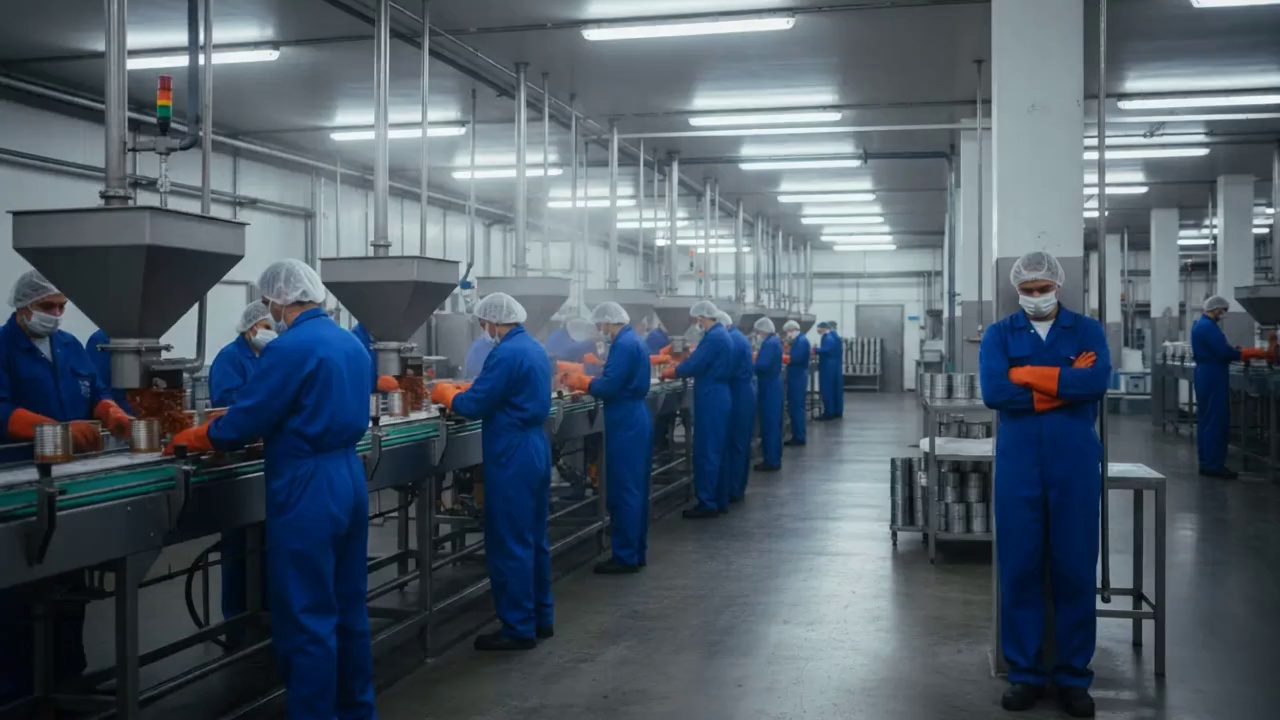employé: (982, 243, 1117, 710), (250, 261, 359, 698), (440, 292, 545, 632), (586, 276, 649, 568), (0, 276, 85, 413), (1187, 287, 1232, 498), (689, 303, 727, 513), (716, 293, 748, 527), (225, 295, 277, 398), (755, 312, 783, 480), (88, 320, 136, 406), (784, 314, 810, 454), (813, 311, 838, 429), (555, 309, 593, 379), (829, 310, 846, 428), (641, 313, 678, 351)
employé actif: (253, 237, 347, 669), (453, 274, 531, 596), (592, 272, 642, 587), (1185, 264, 1231, 520), (20, 264, 73, 402), (752, 300, 785, 495), (237, 274, 273, 440), (718, 274, 740, 541), (688, 277, 710, 517), (781, 291, 807, 473), (824, 294, 848, 433), (808, 299, 831, 415), (558, 300, 588, 382), (653, 297, 670, 362)
employé inactif: (990, 257, 1107, 642)
machine: (21, 418, 891, 666), (1155, 343, 1277, 428)
